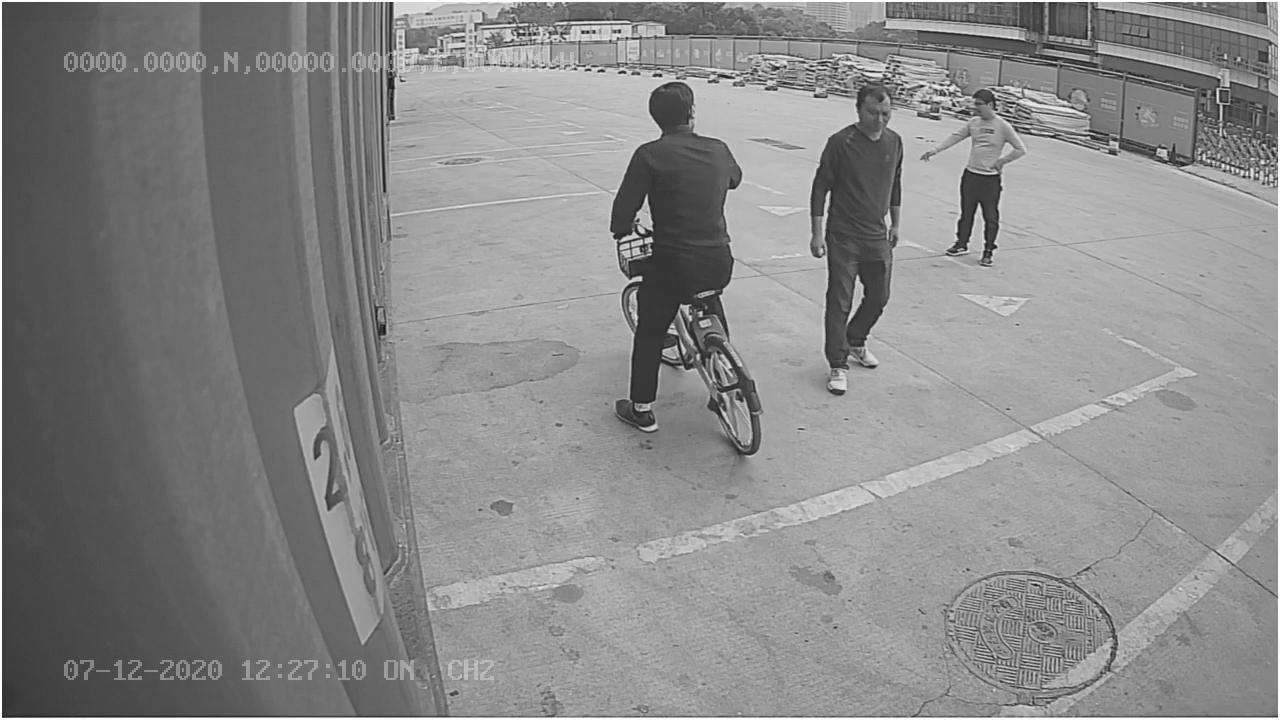person: (803, 84, 911, 402)
